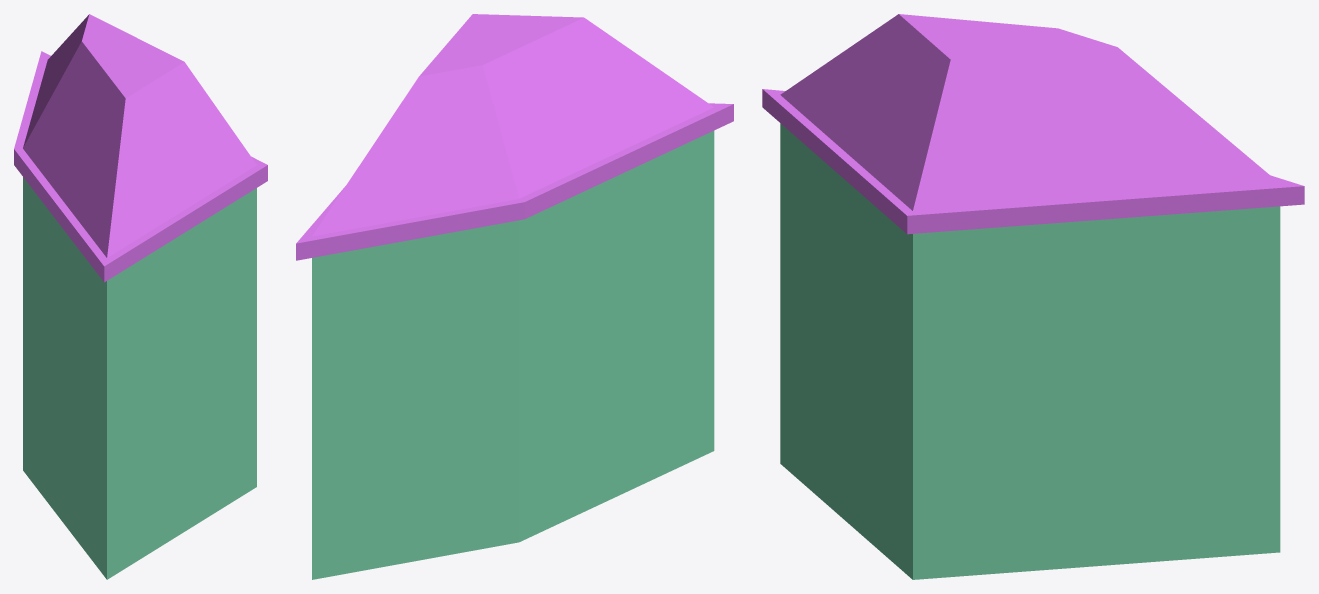
File: Batiment5.fbx
3 views of the same model, side by side, from view 1: azimuth 30°, elevation 25°; view 2: azimuth 150°, elevation 25°; view 3: azimuth 270°, elevation 25° (orthographic). The views are drawn at different scales.
Visible parts, largest first — view 1: Batiment5; view 2: Batiment5; view 3: Batiment5.
Part boxes in pixels (x1,y1,x2,y2): Batiment5: (14,14,267,579); Batiment5: (296,14,733,579); Batiment5: (762,14,1304,579).
Bounding box in the file's own units: 18.05 × 32.43 × 32.58.
